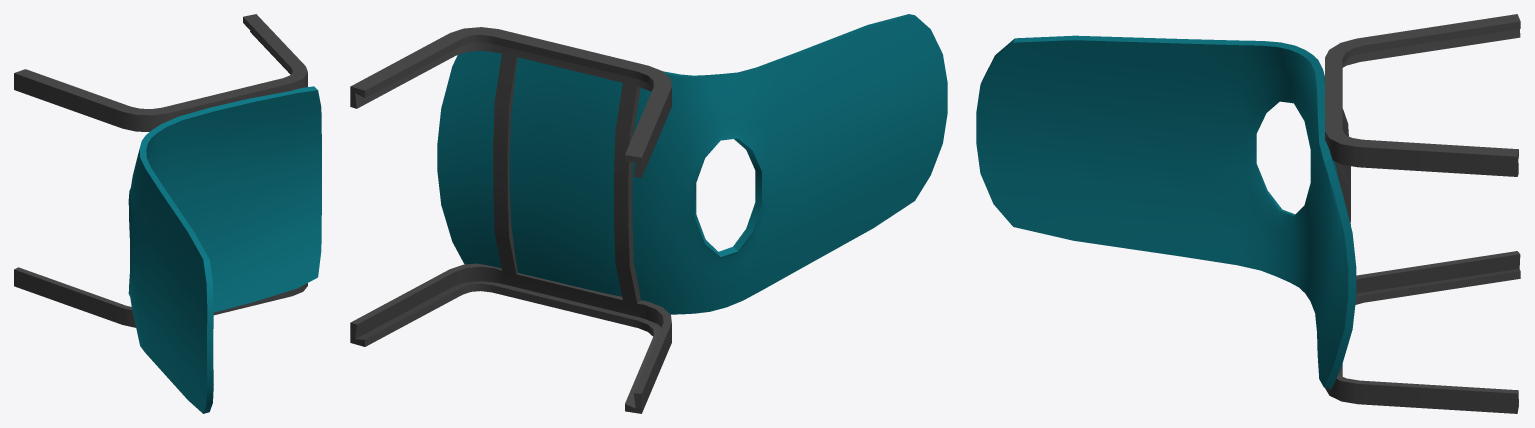
The model's file is chair.glb.
3 renders of one model, left to right at view 1: azimuth 30°, elevation 25°; view 2: azimuth 150°, elevation 25°; view 3: azimuth 270°, elevation 25°, orthographic. The views are drawn at different scales.
Visible parts, largest first — view 1: chair; view 2: chair; view 3: chair.
Part boxes in pixels (x1,y1,x2,y2): chair: (14, 14, 321, 413); chair: (350, 14, 947, 413); chair: (976, 14, 1520, 413).
Bounding box in the file's own units: 0.9227 × 0.6883 × 1.32.
